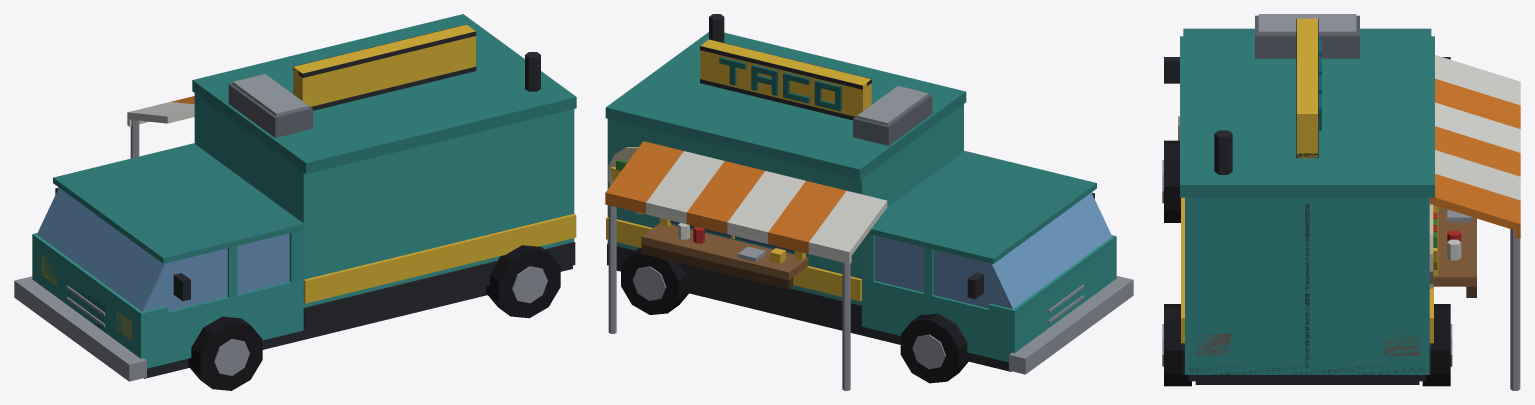
The model's file is Decor_FoodTruck_TruckTaco.fbx.
3 renders of one model, left to right at view 1: azimuth 30°, elevation 25°; view 2: azimuth 150°, elevation 25°; view 3: azimuth 270°, elevation 25°, orthographic. The views are drawn at different scales.
Parts seen in each view (by area): view 1: TruckTaco_Body; view 2: TruckTaco_Body; view 3: TruckTaco_Body.
Boxes of the visible parts, x1,y1,x2,y2 form: TruckTaco_Body: (14, 14, 576, 390); TruckTaco_Body: (605, 14, 1133, 390); TruckTaco_Body: (1162, 14, 1520, 390).
Bounding box in the file's own units: 16.65 × 8.6 × 10.25.
